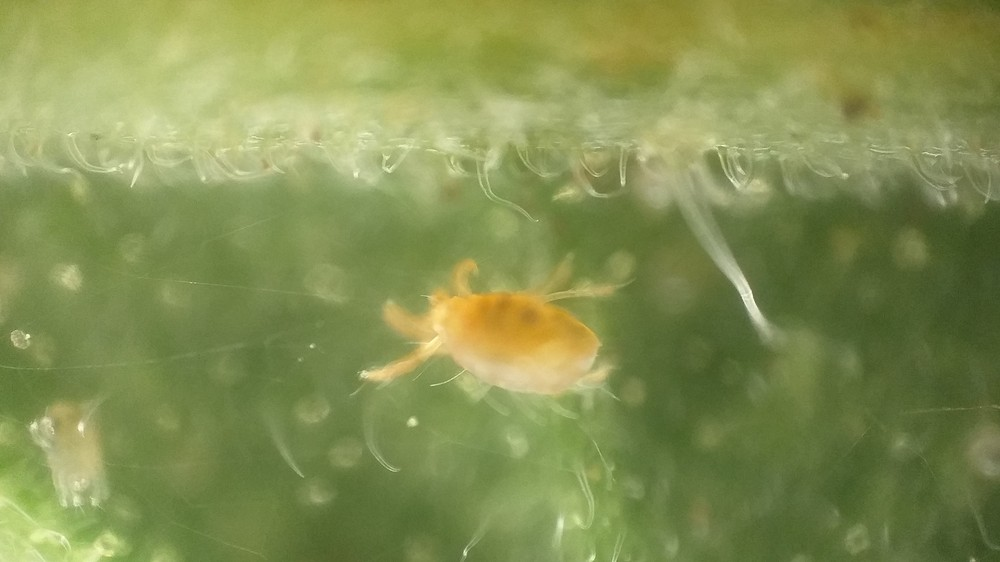Aracnido Rojo: (364, 227, 661, 453)
